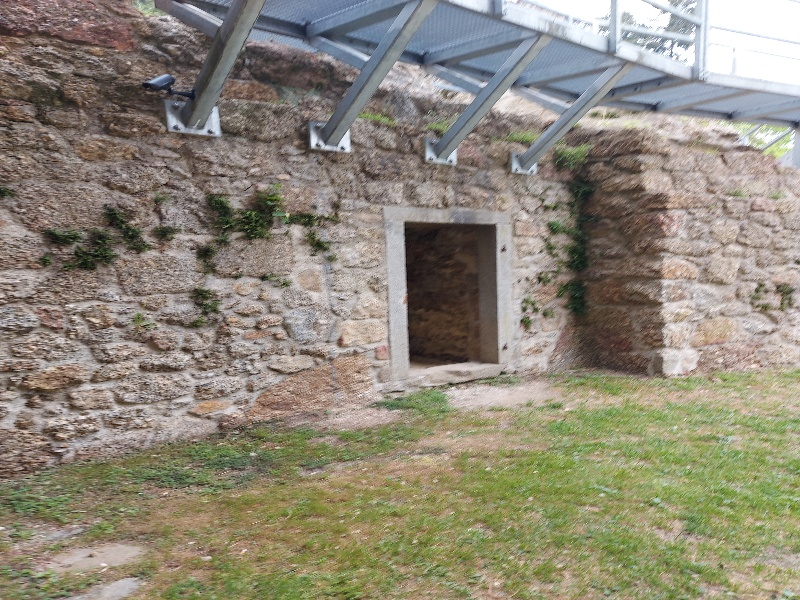door1: (374, 194, 538, 391)
